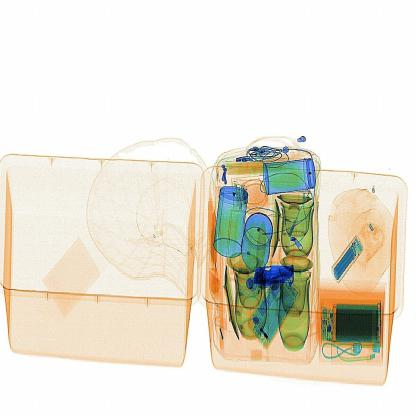knife: (250, 260, 301, 288)
